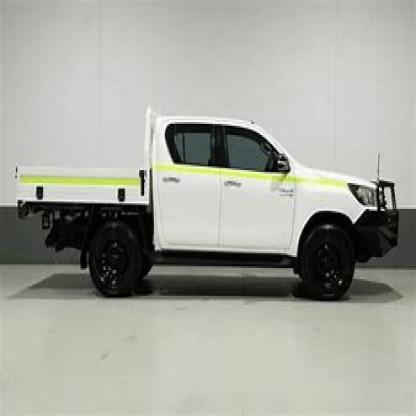light_vehicle: (10, 92, 412, 307)
